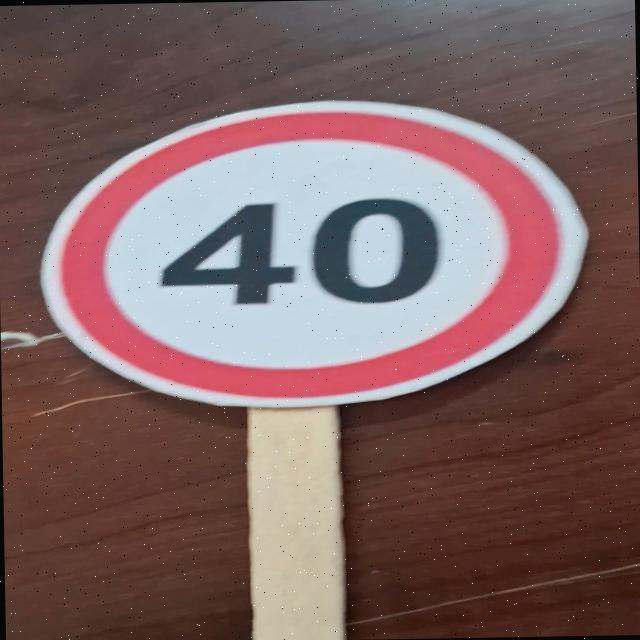Speed40: (36, 92, 590, 415)
